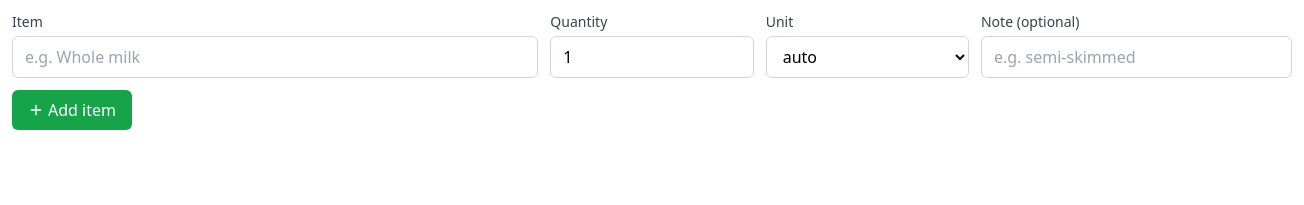
AddItemForm: the unit › when the server refuses, the chosen unit is kept so the user can retry
Type "rice" into the field labelled "Item" at (275, 57), box [12, 36, 538, 78]
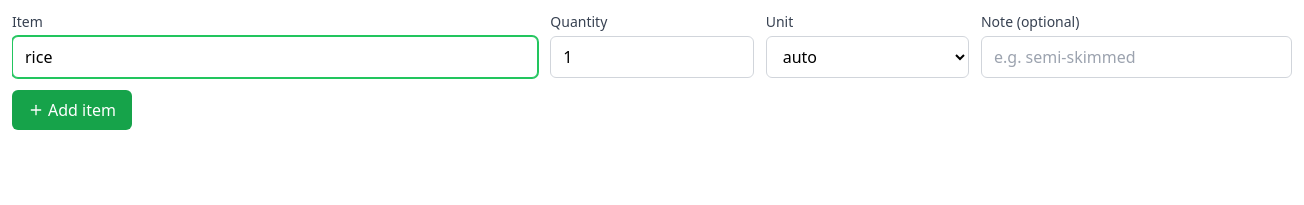
Select "kg" in the dropdown labelled "Unit" at (867, 57), box [766, 36, 969, 78]
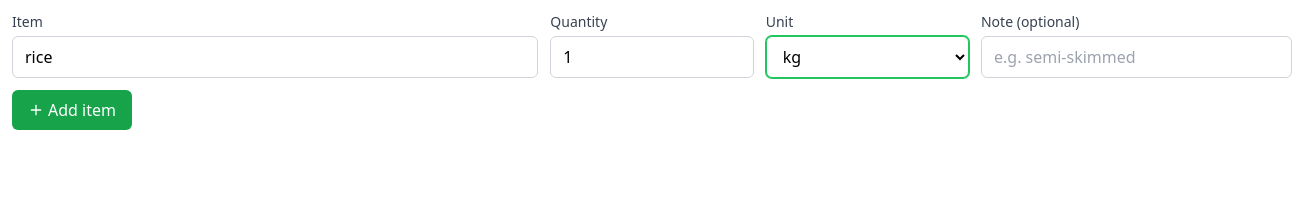
Click the button "Add item" at (72, 110), box [12, 90, 132, 130]
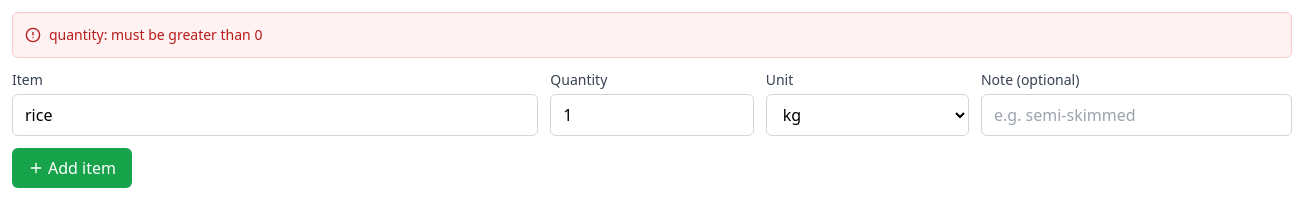
Expected: the message reads "quantity: must be greater than 0", [49, 25, 262, 44]
